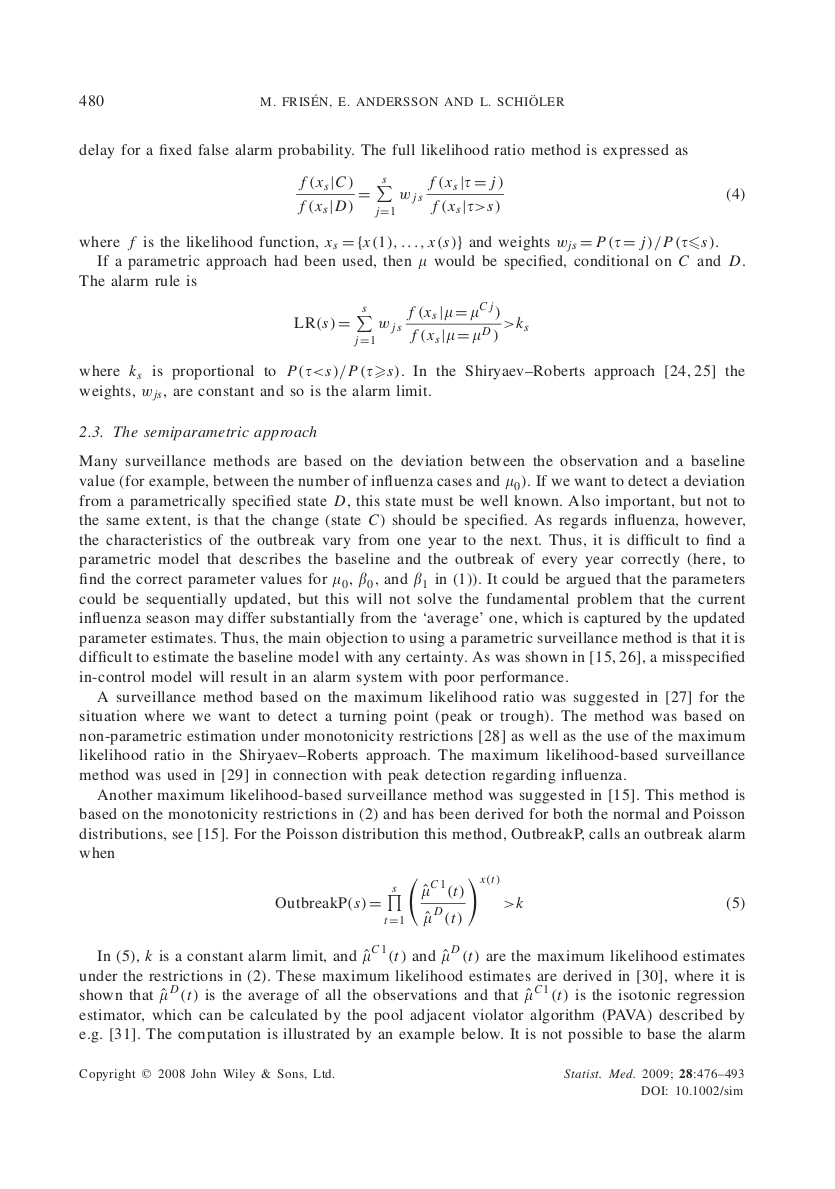formula: (275, 874, 744, 927), (296, 175, 744, 218), (294, 301, 528, 347)
